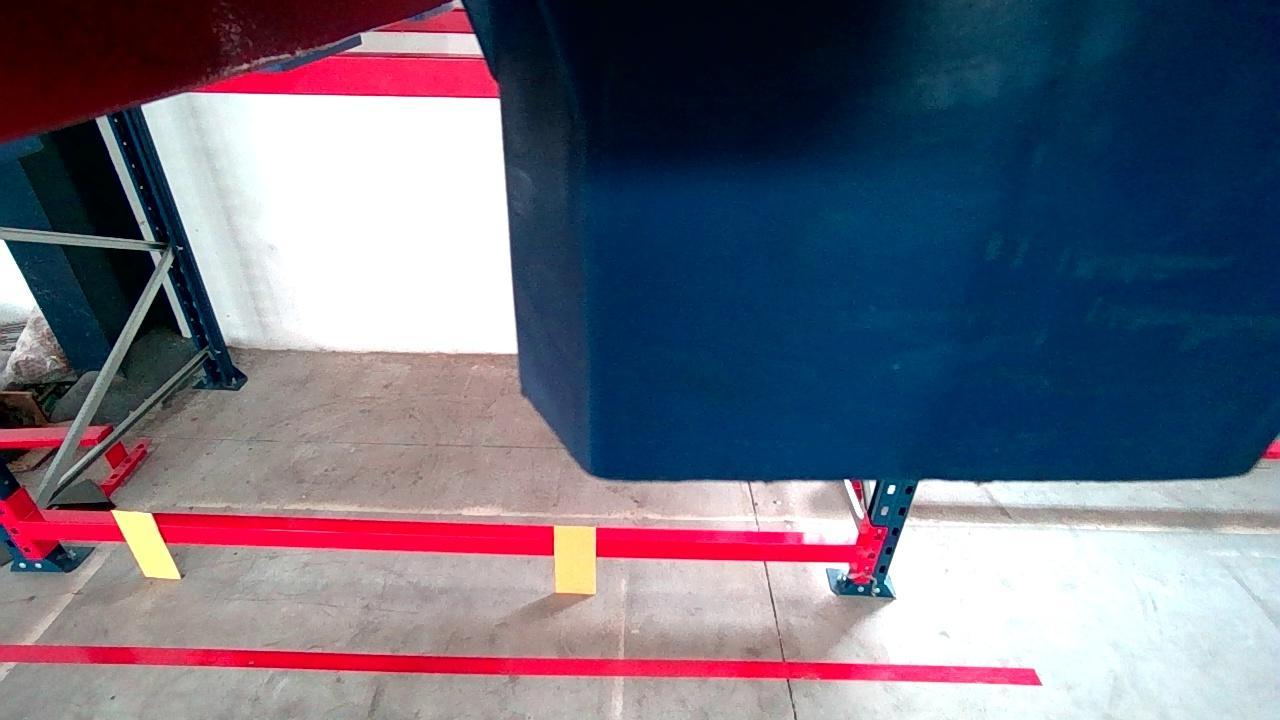h_rack: (17, 522, 856, 564)
orange_strip: (112, 510, 180, 578), (557, 525, 594, 596)
red_line: (0, 645, 1041, 688)
